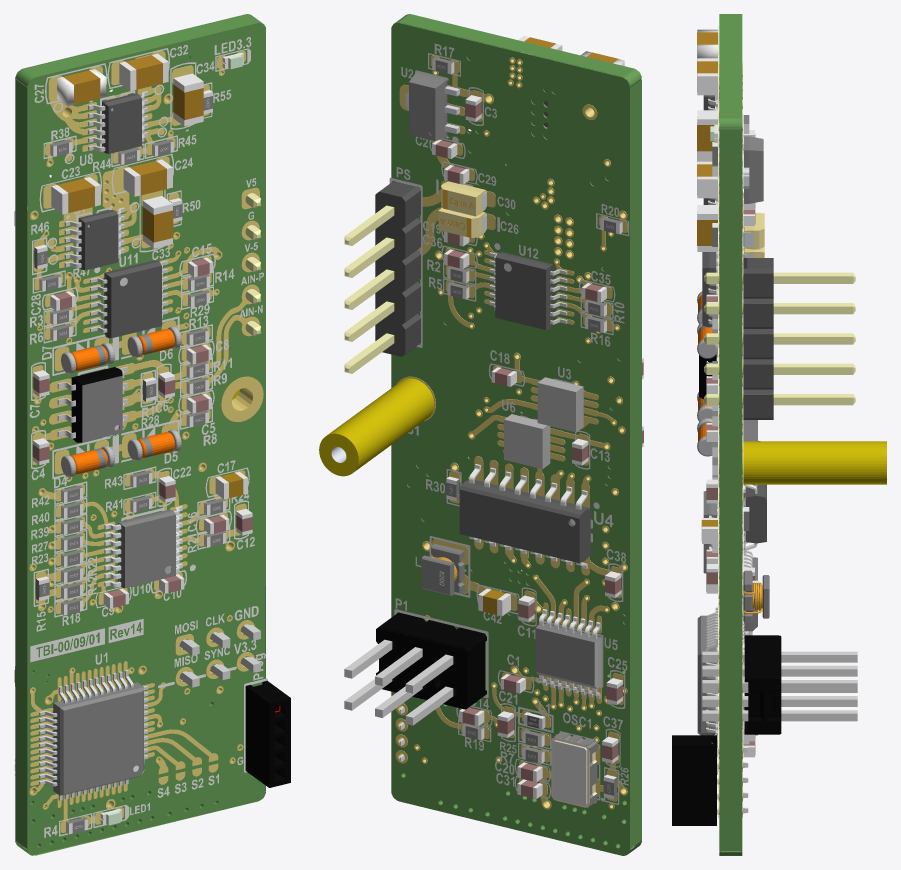
Rendered from Module_BI.glb.
3 renders of one model, left to right at view 1: azimuth 30°, elevation 25°; view 2: azimuth 150°, elevation 25°; view 3: azimuth 270°, elevation 25°, orthographic. The views are drawn at different scales.
Visible parts, largest first — view 1: Core, Top, Object001, ComponentBody_136, ComponentBody_8, ComponentBody_131, ComponentBody_151, Pad_49, ComponentBody_137, ComponentBody_23, ComponentBody_127, ComponentBody_124 (+38 smaller); view 2: Core_4, Bottom, Object001, ComponentBody_78, ComponentBody_2, ComponentBody_5, ComponentBody, Core, ComponentBody_3, ComponentBody_81, ComponentBody_4, ComponentBody_64 (+17 smaller); view 3: Core, ComponentBody, ComponentBody_3, ComponentBody_4, ComponentBody_5, ComponentBody_8, ComponentBody_2, Core_4, ComponentBody_119, ComponentBody_78, ComponentBody_136, ComponentBody_71 (+8 smaller).
Boxes of the visible parts, x1,y1,x2,y2 form: Core: (16,14,265,855); Top: (29,37,267,837); Object001: (15,80,26,848); ComponentBody_136: (53,682,143,795); ComponentBody_8: (245,680,290,787); ComponentBody_131: (104,260,161,338); ComponentBody_151: (118,509,175,588); Pad_49: (30,661,154,807); ComponentBody_137: (39,670,148,800); ComponentBody_23: (82,375,122,442); ComponentBody_127: (78,209,118,270); ComponentBody_124: (102,93,141,153); Core_4: (391,22,630,855); Bottom: (389,43,629,804); Object001: (630,80,641,848); ComponentBody_78: (459,480,590,563); ComponentBody_2: (376,612,486,709); ComponentBody_5: (375,180,420,356); ComponentBody: (319,378,434,476); Core: (395,14,641,853); ComponentBody_3: (344,639,453,725); ComponentBody_81: (495,252,552,329); ComponentBody_4: (344,205,394,373); ComponentBody_64: (535,623,601,688); Core: (719,14,740,855); ComponentBody: (743,441,886,484); ComponentBody_3: (702,651,857,721); ComponentBody_4: (704,272,855,405); ComponentBody_5: (743,258,773,419); ComponentBody_8: (672,735,716,825); ComponentBody_2: (744,635,781,734); Core_4: (741,14,742,855); ComponentBody_119: (744,136,763,203); ComponentBody_78: (745,440,766,543); ComponentBody_136: (697,615,716,735); ComponentBody_71: (743,570,769,622).
Bounding box in the file's own units: 2 × 6.19 × 1.63.
